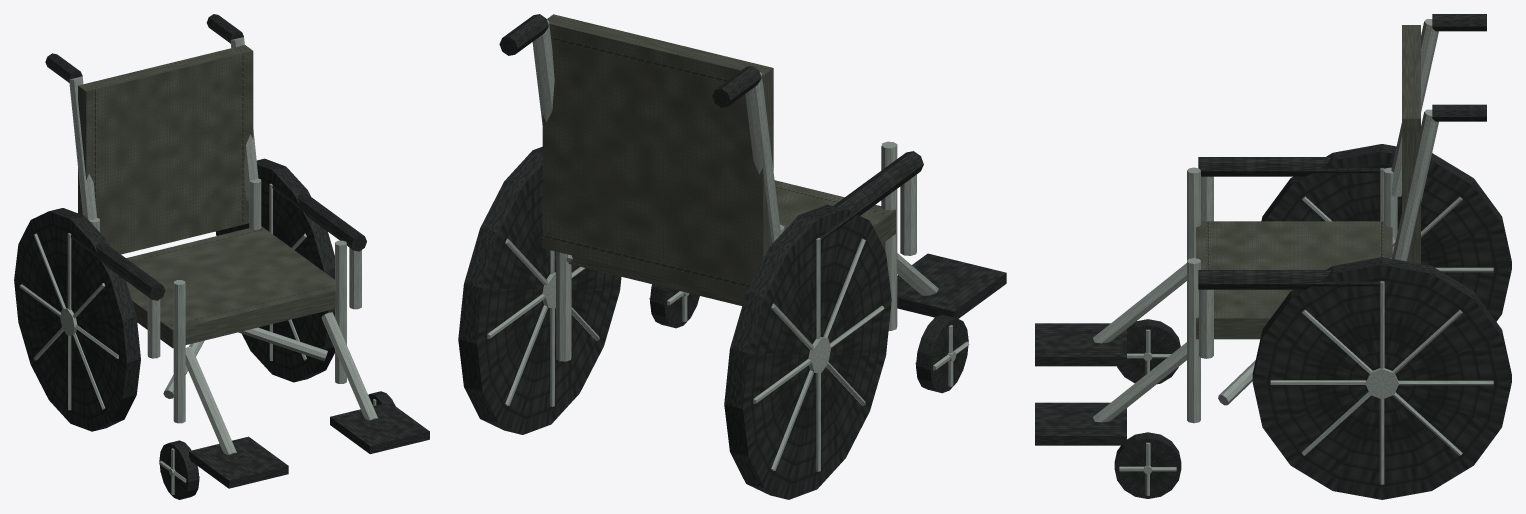
Rendered from Wheelchair.glb.
3 views of the same model, side by side, from view 1: azimuth 30°, elevation 25°; view 2: azimuth 150°, elevation 25°; view 3: azimuth 270°, elevation 25° (orthographic). The views are drawn at different scales.
Visible parts, largest first — view 1: Wheelchair; view 2: Wheelchair; view 3: Wheelchair.
Boxes of the visible parts, <box> form: Wheelchair: <box>14,14,429,499</box>; Wheelchair: <box>458,14,1006,499</box>; Wheelchair: <box>1035,14,1511,499</box>.
Bounding box in the file's own units: 0.705 × 1 × 1.14.
Materials: 3 (3 with a texture image).
